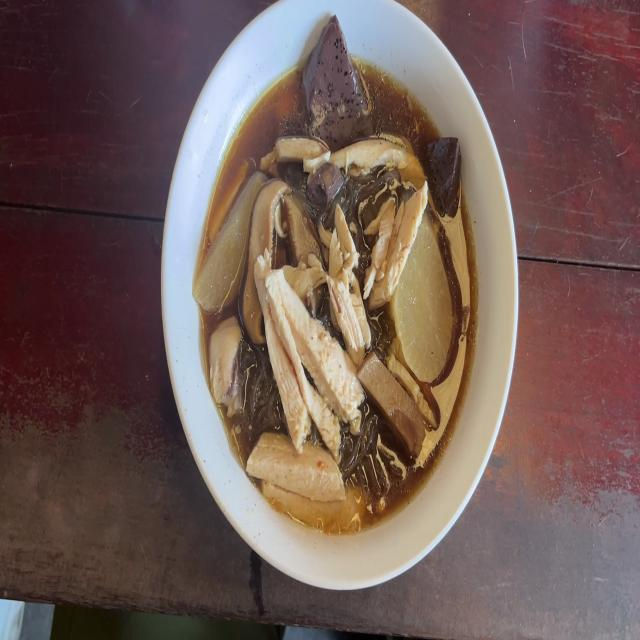noodle: (312, 21, 367, 136), (430, 135, 461, 208), (309, 167, 344, 206)
